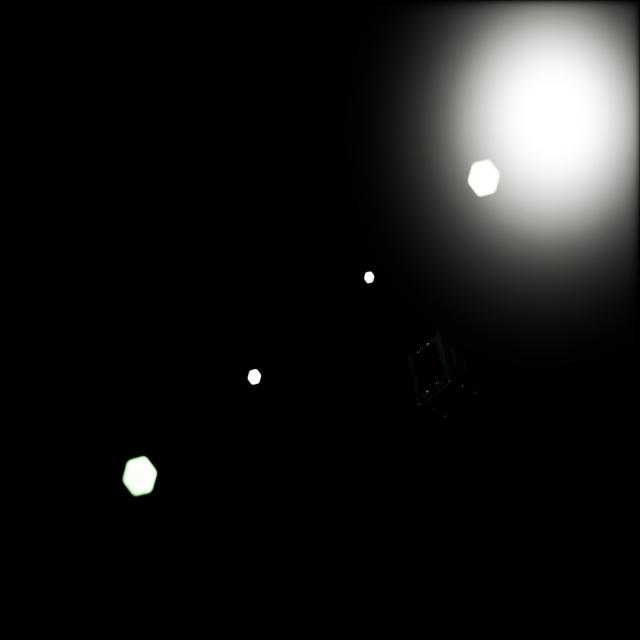medium_debris: (408, 325, 486, 417)
